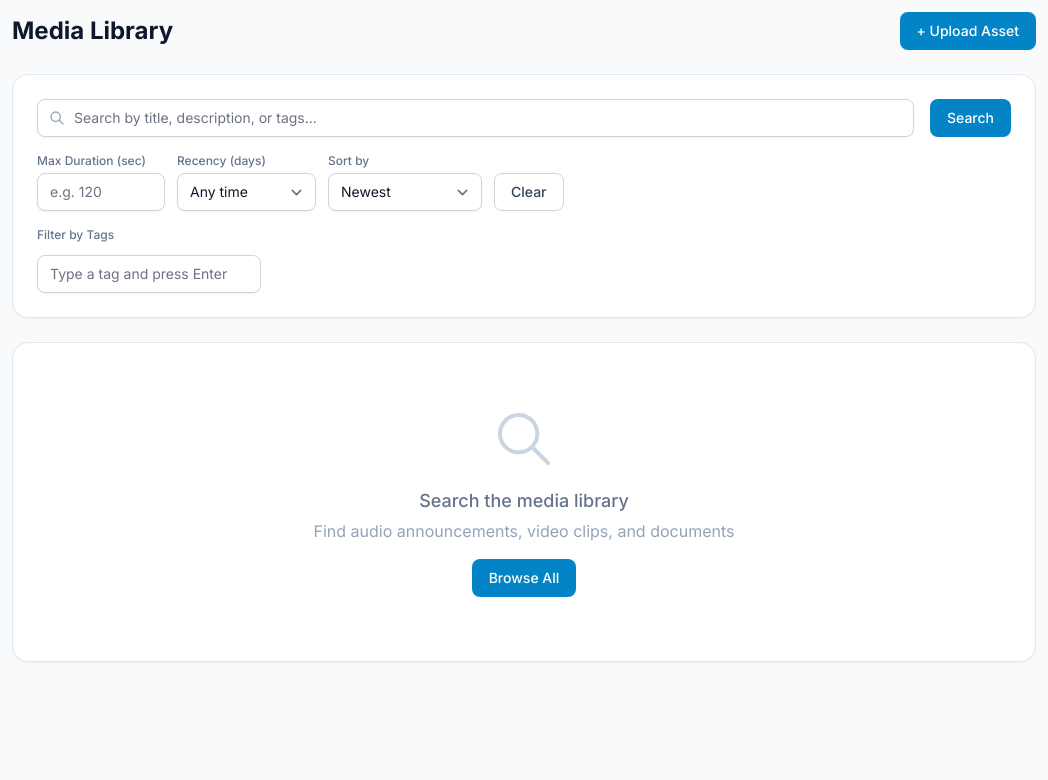
Test: LibraryView tag filter › displays a chip for each added tag
Type "safety" into the field with test id "tag-input". click: point(149, 274)
box: [37,255,261,293]
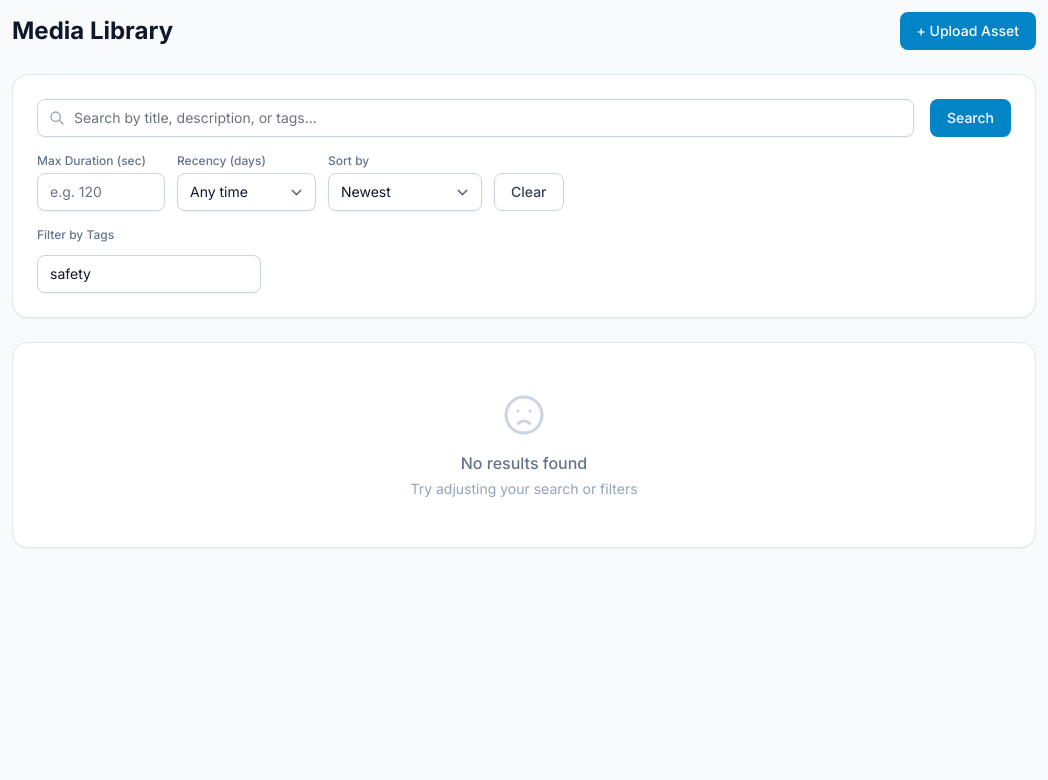
Press Enter in the field with test id "tag-input", box [37,255,261,293]
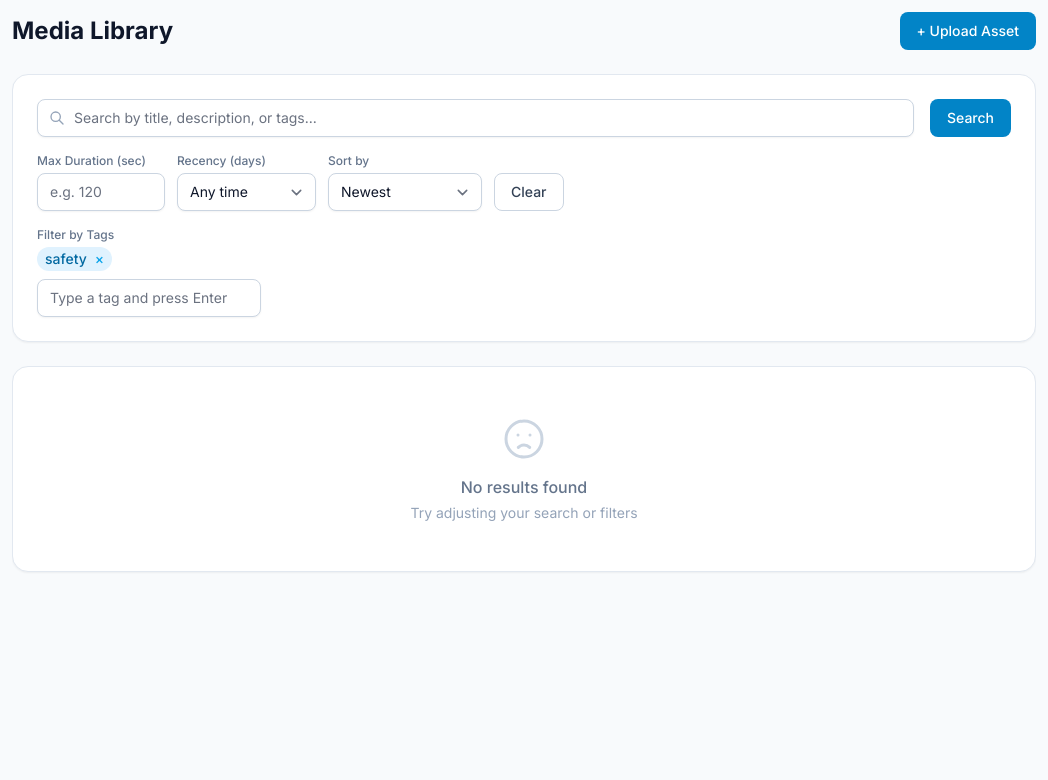
Expected: the text "safety" is shown, [45,250,87,267]
